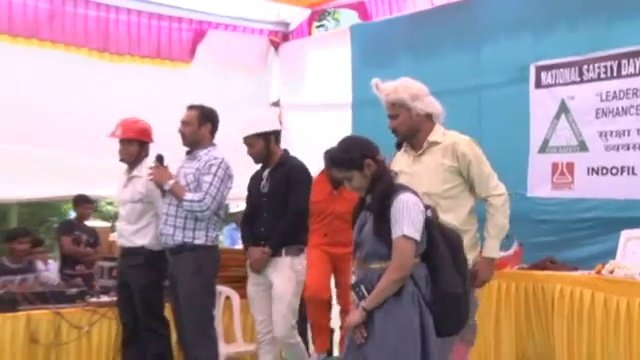helmet: (238, 109, 282, 142), (104, 117, 155, 145), (227, 200, 247, 215)
helmet_off: (373, 80, 445, 148), (334, 137, 385, 197), (172, 104, 220, 156), (317, 147, 351, 194), (2, 226, 34, 261), (28, 234, 51, 271), (71, 197, 97, 227)
helmet_on: (236, 108, 283, 170), (105, 116, 155, 170), (227, 200, 247, 227)
person: (376, 83, 511, 360), (336, 131, 471, 356), (145, 102, 232, 360), (238, 106, 312, 360), (104, 116, 167, 360), (300, 144, 364, 360), (54, 195, 103, 296), (0, 226, 59, 288), (216, 199, 248, 251)
